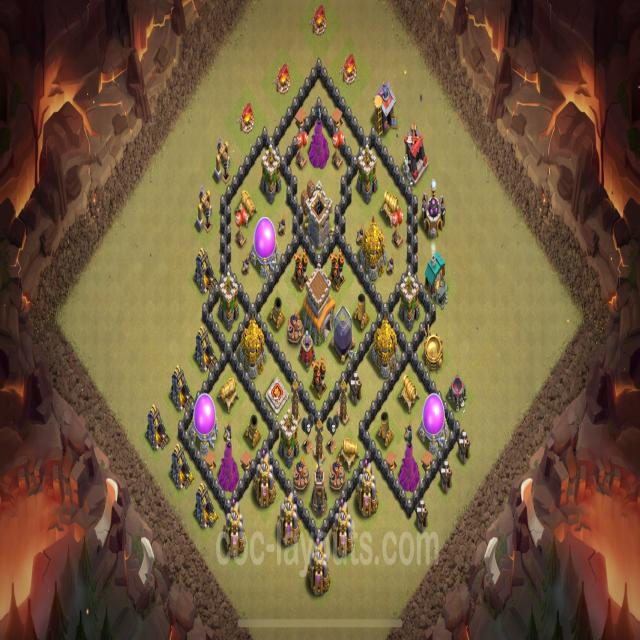air_defense: (308, 359, 329, 400), (290, 247, 309, 291), (328, 249, 346, 290)
air_sweeper: (298, 329, 315, 371)
archer_tower: (358, 146, 377, 202), (261, 146, 281, 198), (399, 272, 418, 326), (280, 409, 298, 466), (220, 272, 238, 328)
army_camp: (338, 47, 358, 88), (272, 61, 292, 99), (308, 2, 328, 39), (236, 99, 256, 135)
barracks: (371, 81, 397, 138)
builders_hut: (438, 458, 452, 495), (457, 428, 470, 466), (415, 498, 428, 532)
cannon: (218, 374, 240, 416), (381, 186, 402, 230), (399, 373, 420, 414), (236, 187, 256, 223), (340, 436, 360, 470)
clan_castle: (306, 182, 333, 251)
dark_barracks: (401, 122, 429, 186)
dark_elixir_drill: (194, 186, 215, 236), (212, 135, 232, 186)
dark_elixir_storage: (332, 306, 355, 364)
dark_spell_factory: (448, 373, 467, 410)
elixir_collector: (277, 491, 301, 549), (307, 542, 331, 598), (254, 452, 276, 511), (357, 461, 378, 518), (333, 502, 354, 558), (224, 502, 244, 560)
elixir_storage: (420, 394, 449, 453), (252, 218, 280, 274), (193, 393, 218, 452)
gold_mine: (190, 484, 219, 534), (144, 403, 170, 456), (168, 443, 194, 494), (192, 324, 217, 377), (168, 364, 192, 414), (192, 248, 218, 293)
gold_storage: (372, 315, 400, 374), (240, 317, 266, 377), (360, 222, 386, 278)
laboratory: (422, 180, 446, 240)
mortar: (376, 409, 394, 450), (269, 294, 286, 334), (353, 293, 370, 332), (245, 411, 261, 450)
spell_factory: (422, 324, 443, 371)
town_hall: (301, 266, 334, 342)
wizard_tower: (398, 438, 419, 494), (308, 116, 330, 169), (218, 441, 239, 492)
